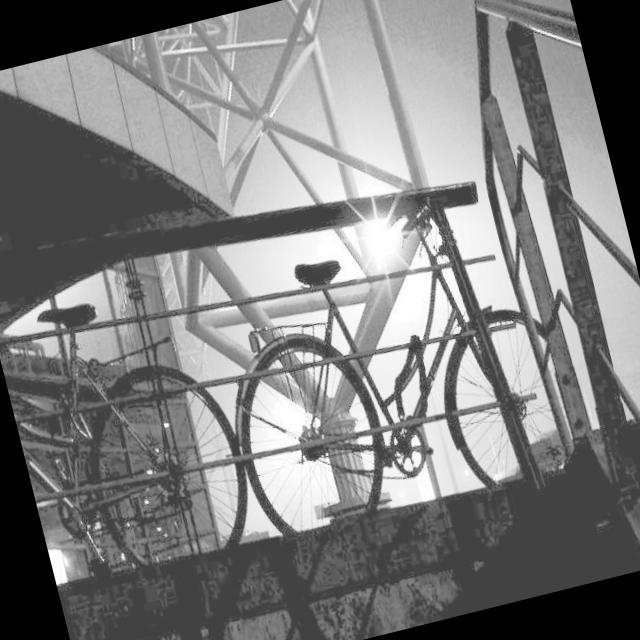Bicycle: (193, 154, 582, 542), (0, 268, 265, 601)
